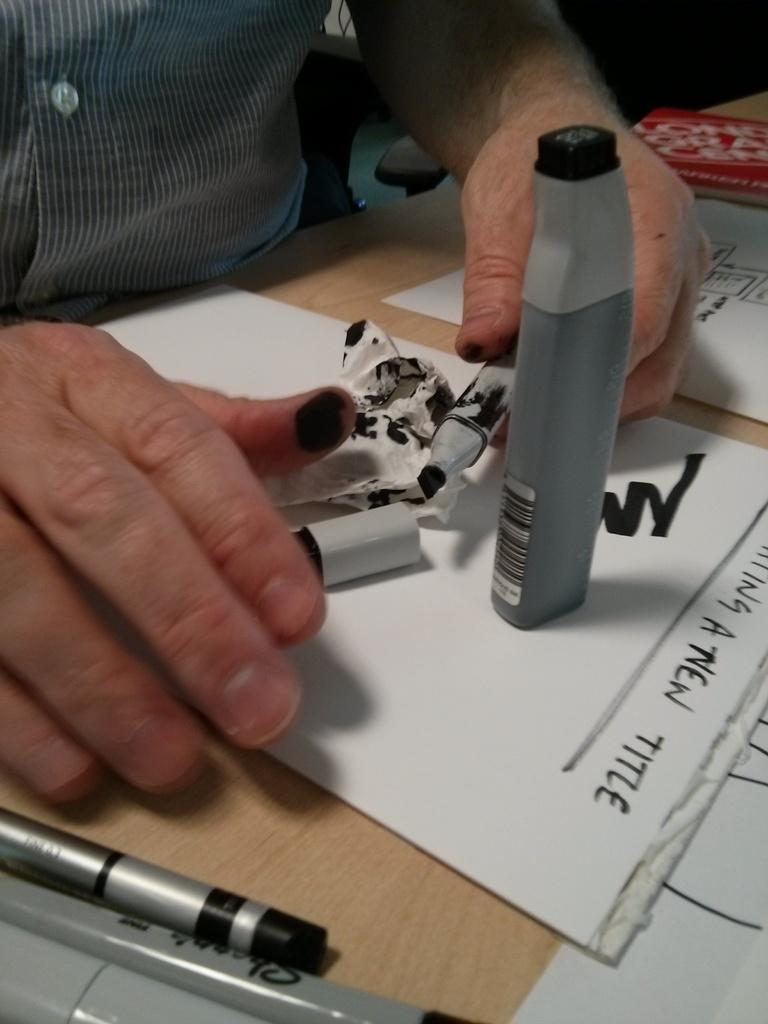pen: (0, 879, 479, 1023), (0, 805, 334, 980), (2, 926, 255, 1023), (415, 345, 516, 497)
